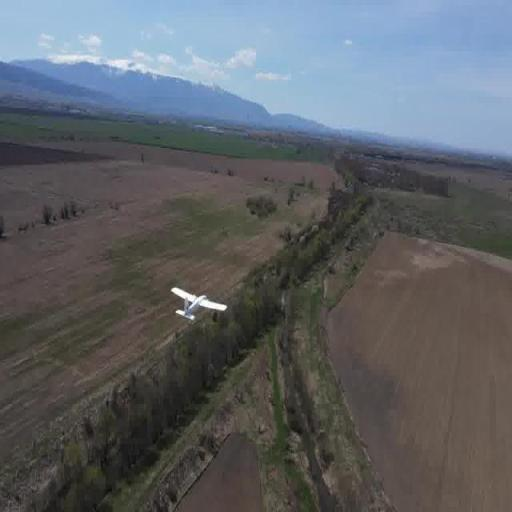uav: (168, 282, 230, 332)
